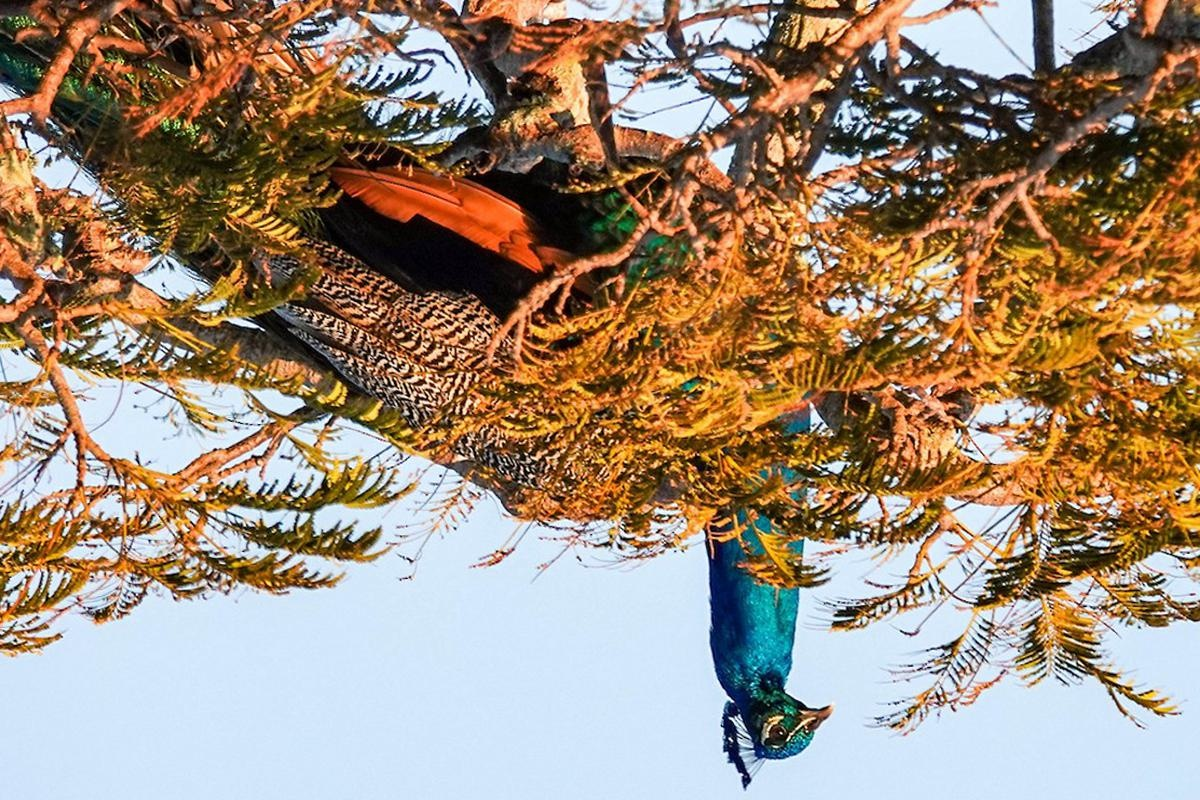peacock: (307, 138, 834, 756)
